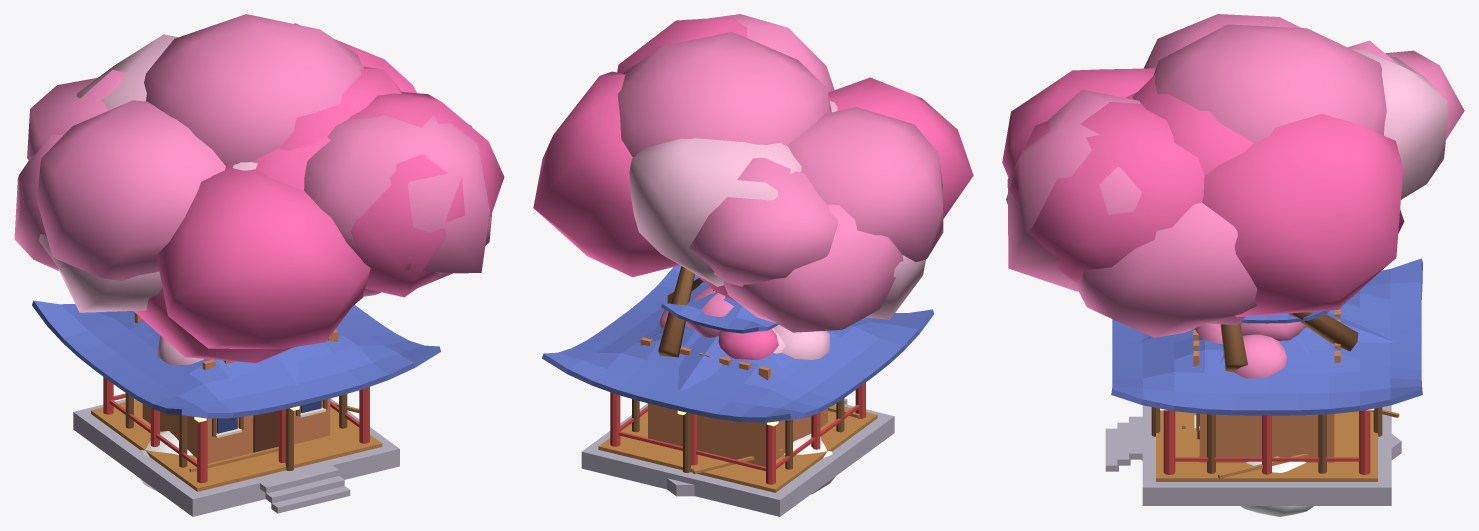
Rendered from environment_assets.glb.
The picture shows the model from 3 angles, left to right: view 1: azimuth 30°, elevation 25°; view 2: azimuth 150°, elevation 25°; view 3: azimuth 270°, elevation 25°; orthographic projection. The views are drawn at different scales.
Parts seen in each view (by area): view 1: tree_cherry_hero, pavilion, house_a, gazebo, tree_cherry; view 2: tree_cherry_hero, pavilion, house_a, gazebo, tree_cherry; view 3: tree_cherry_hero, pavilion, house_a, gazebo, tree_cherry, cloud.
Boxes of the visible parts, box(x1,y1,x2,y2) form: tree_cherry_hero: box(14, 14, 504, 363); pavilion: box(32, 300, 440, 516); house_a: box(134, 312, 338, 463); gazebo: box(125, 327, 359, 472); tree_cherry: box(157, 336, 203, 364); tree_cherry_hero: box(533, 14, 973, 357); pavilion: box(542, 265, 934, 516); house_a: box(640, 337, 827, 466); gazebo: box(632, 323, 859, 496); tree_cherry: box(659, 287, 829, 360); tree_cherry_hero: box(1002, 14, 1464, 372); pavilion: box(1105, 258, 1422, 505); house_a: box(1193, 308, 1340, 462); gazebo: box(1140, 312, 1401, 478); tree_cherry: box(1194, 310, 1328, 378); cloud: box(1240, 456, 1313, 516).
Size of the model in its own units: 13.9 by 15.48 by 13.75.
